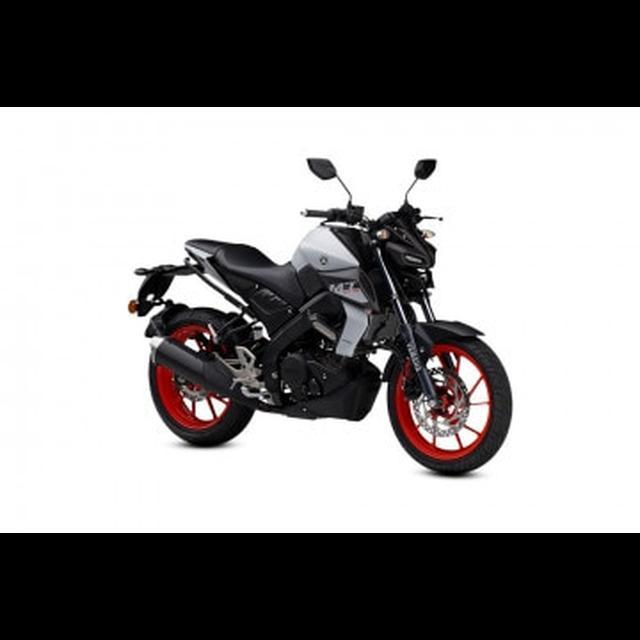motorcycle: (125, 149, 517, 481)
